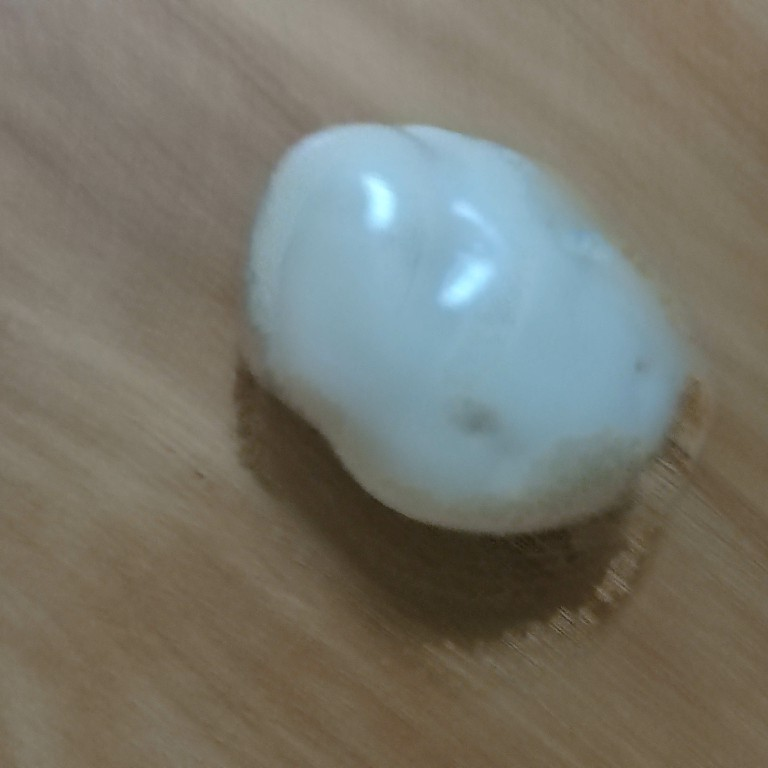fruit_potato: (232, 113, 698, 539)
